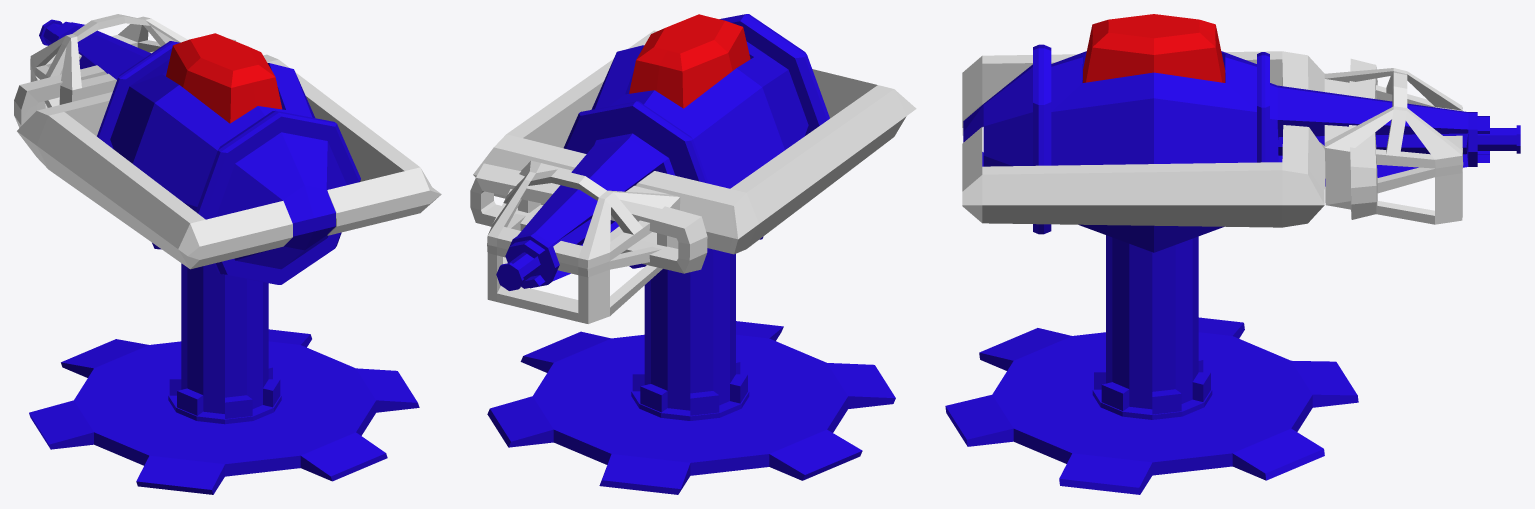
File: T_Completa.fbx
3 renders of one model, left to right at view 1: azimuth 30°, elevation 25°; view 2: azimuth 150°, elevation 25°; view 3: azimuth 270°, elevation 25°, orthographic. The views are drawn at different scales.
Parts seen in each view (by area): view 1: Cabeza, Base, Modulo_2, Rotacion, Modulo_3, Modulo_1; view 2: Base, Cabeza, Modulo_2, Rotacion, Modulo_3, Modulo_1; view 3: Cabeza, Base, Modulo_2, Rotacion, Modulo_3, Modulo_1.
Part boxes in pixels (x1,y1,x2,y2): Cabeza: (51, 21, 360, 284); Base: (29, 329, 419, 494); Modulo_2: (17, 54, 441, 269); Rotacion: (169, 263, 280, 418); Modulo_3: (30, 14, 187, 110); Modulo_1: (14, 19, 236, 127); Base: (487, 321, 895, 494); Cabeza: (505, 14, 829, 288); Modulo_2: (473, 30, 916, 254); Rotacion: (632, 248, 747, 415); Modulo_3: (487, 160, 680, 323); Modulo_1: (470, 163, 707, 290); Cabeza: (963, 14, 1489, 252); Base: (945, 317, 1358, 494); Modulo_2: (962, 51, 1325, 227); Rotacion: (1094, 235, 1210, 414); Modulo_3: (1324, 68, 1463, 224); Modulo_1: (1349, 58, 1520, 219).
Size of the model in its own units: 350 by 355 by 485.
